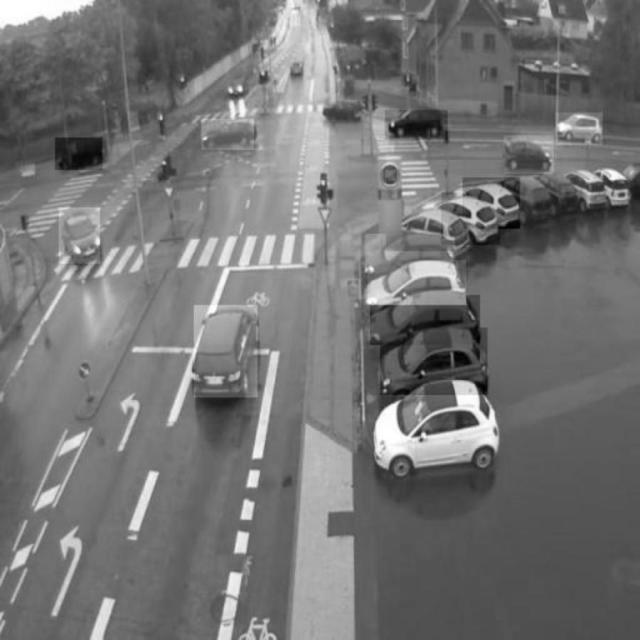vehicle: (375, 385, 499, 477), (380, 328, 488, 395), (194, 305, 258, 397), (370, 296, 481, 346), (368, 260, 466, 305), (387, 203, 471, 251), (366, 234, 454, 272), (442, 193, 500, 245), (463, 178, 520, 229), (59, 208, 100, 264), (504, 135, 554, 173), (385, 110, 447, 140), (202, 119, 254, 149), (56, 138, 103, 170), (557, 113, 603, 145)
